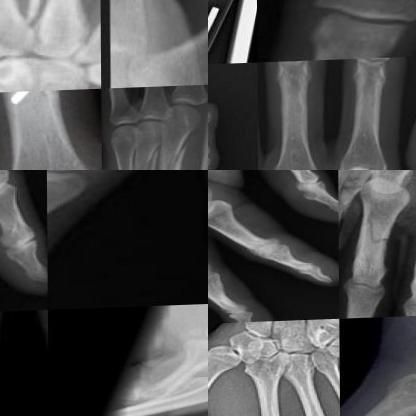fracture: (359, 207, 396, 259), (338, 170, 368, 228), (157, 147, 193, 169), (128, 149, 161, 169)
